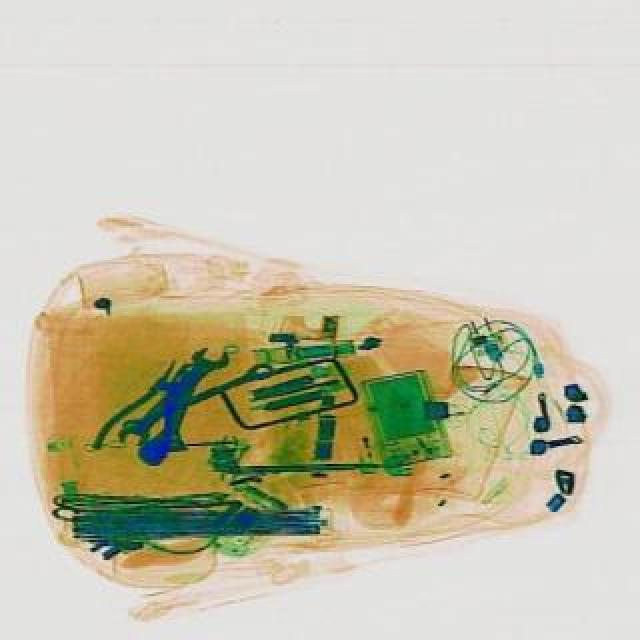scissors: (108, 356, 276, 452), (154, 340, 230, 458)
wrench: (88, 346, 204, 472)
